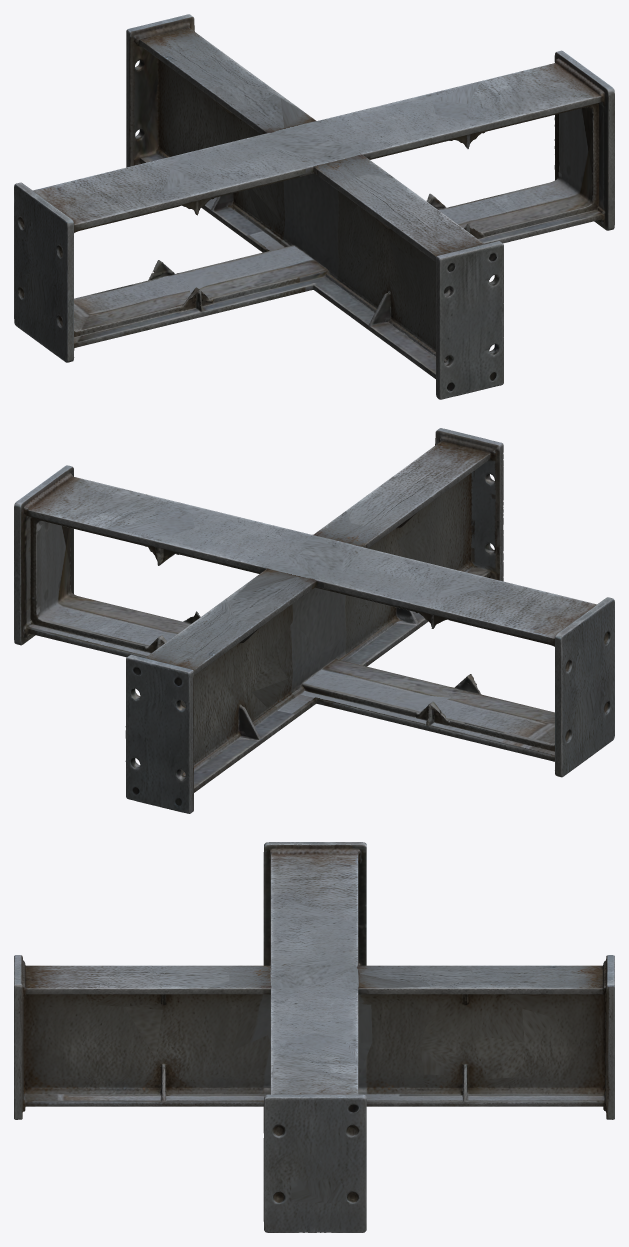
File: Env_SteelIBeam.fbx
The picture shows the model from 3 angles, top to bottom: view 1: azimuth 30°, elevation 25°; view 2: azimuth 150°, elevation 25°; view 3: azimuth 270°, elevation 25°; orthographic projection. The views are drawn at different scales.
Parts seen in each view (by area): view 1: Env_SteelIBeam; view 2: Env_SteelIBeam; view 3: Env_SteelIBeam.
Boxes of the visible parts, left/top/right/bottom form: Env_SteelIBeam: left=14, top=14, right=614, bottom=399; Env_SteelIBeam: left=14, top=428, right=614, bottom=813; Env_SteelIBeam: left=14, top=842, right=614, bottom=1232.
Size of the model in its own units: 99.25 by 24.56 by 98.57.
